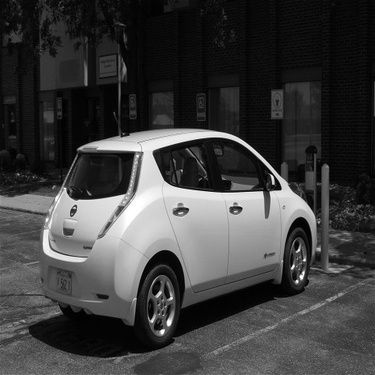car: (31, 112, 326, 350)
